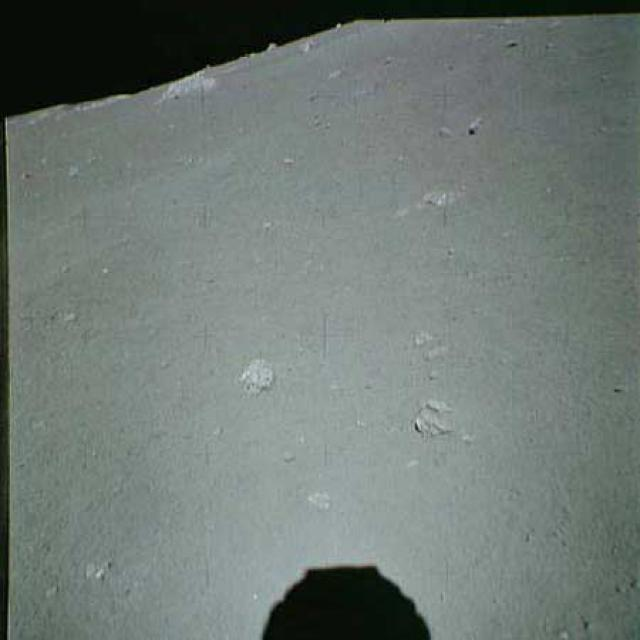rock: (226, 353, 284, 397), (415, 395, 464, 441), (154, 70, 223, 102), (416, 178, 472, 212)
